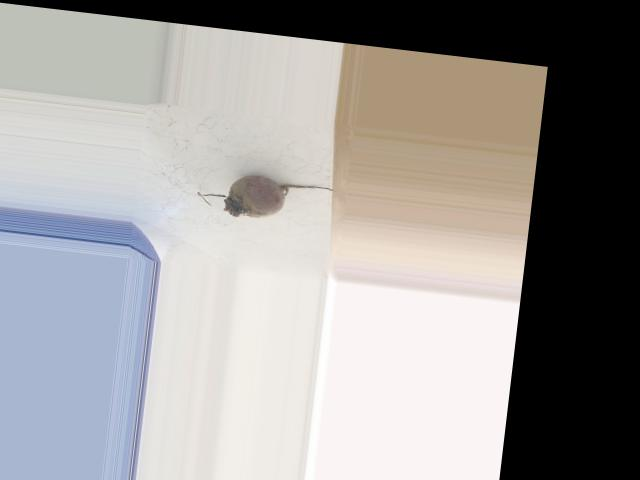beet: (195, 169, 338, 227)
